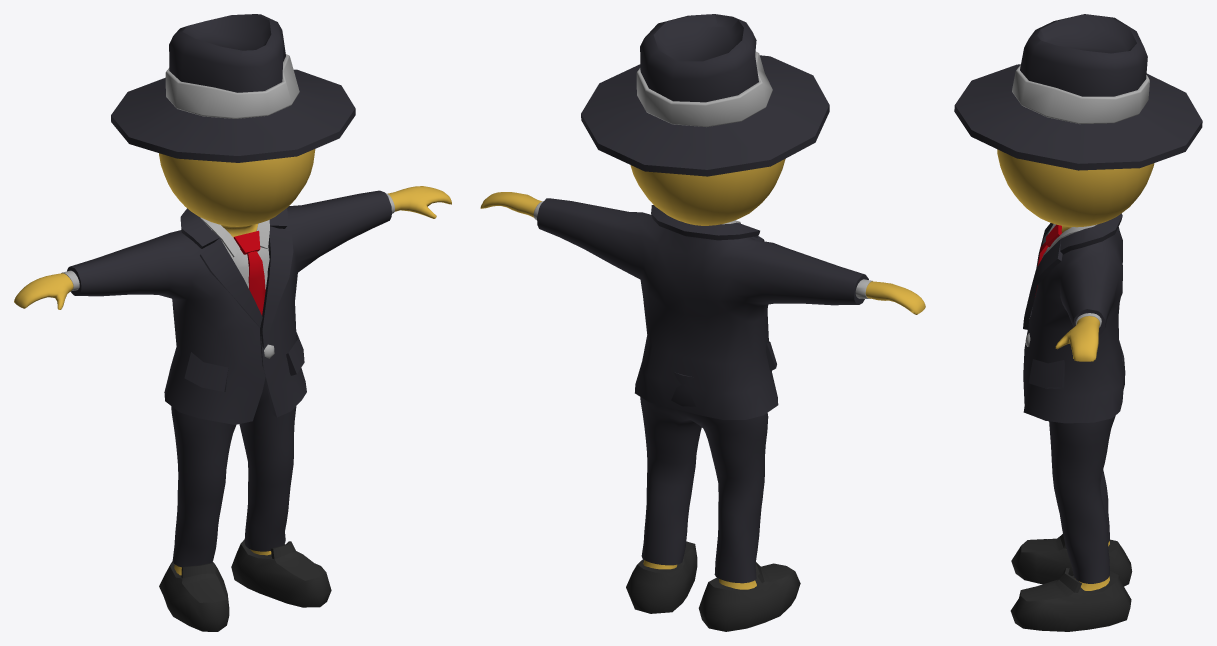
File: costume.fbx
The picture shows the model from 3 angles, left to right: view 1: azimuth 30°, elevation 25°; view 2: azimuth 150°, elevation 25°; view 3: azimuth 270°, elevation 25°; orthographic projection.
Visible parts, largest first — view 1: costume; view 2: costume; view 3: costume.
Part boxes in pixels (x1=…): costume: x1=14, y1=14, x2=451, y2=631; costume: x1=480, y1=14, x2=925, y2=631; costume: x1=954, y1=14, x2=1202, y2=631.
Size of the model in its own units: 1.55 by 0.7772 by 1.95.
